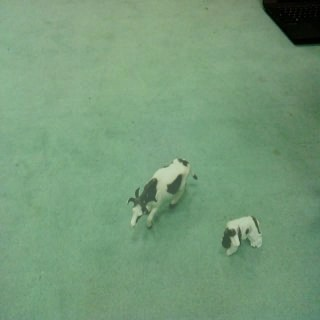cow: (126, 152, 203, 235)
dog: (217, 215, 269, 257)
